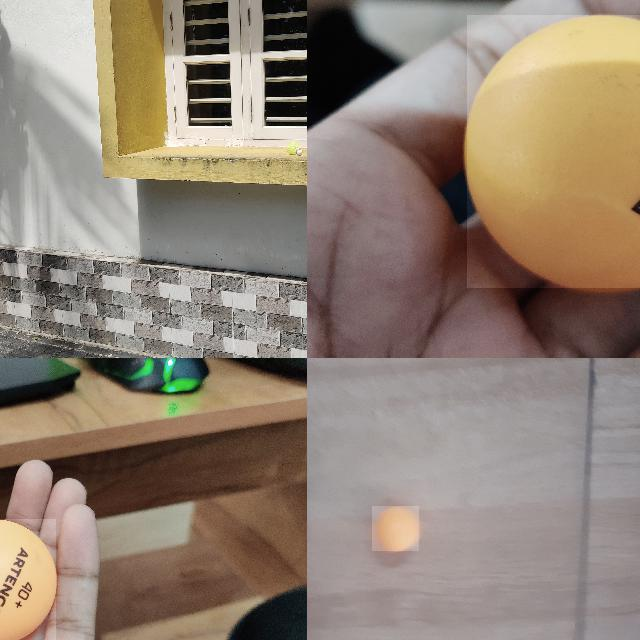ping-pong-ball: (466, 14, 639, 290), (0, 518, 58, 639), (372, 506, 420, 552)
